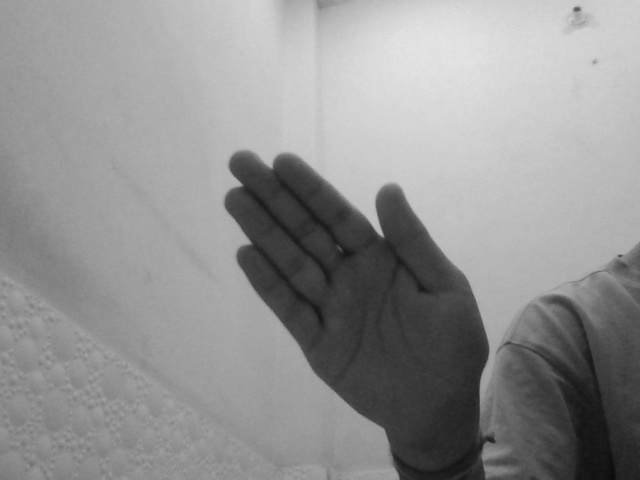Hello: (213, 148, 495, 439)
